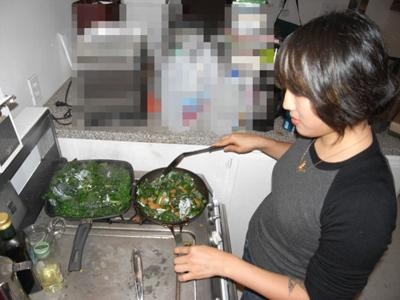person: (174, 11, 396, 300)
